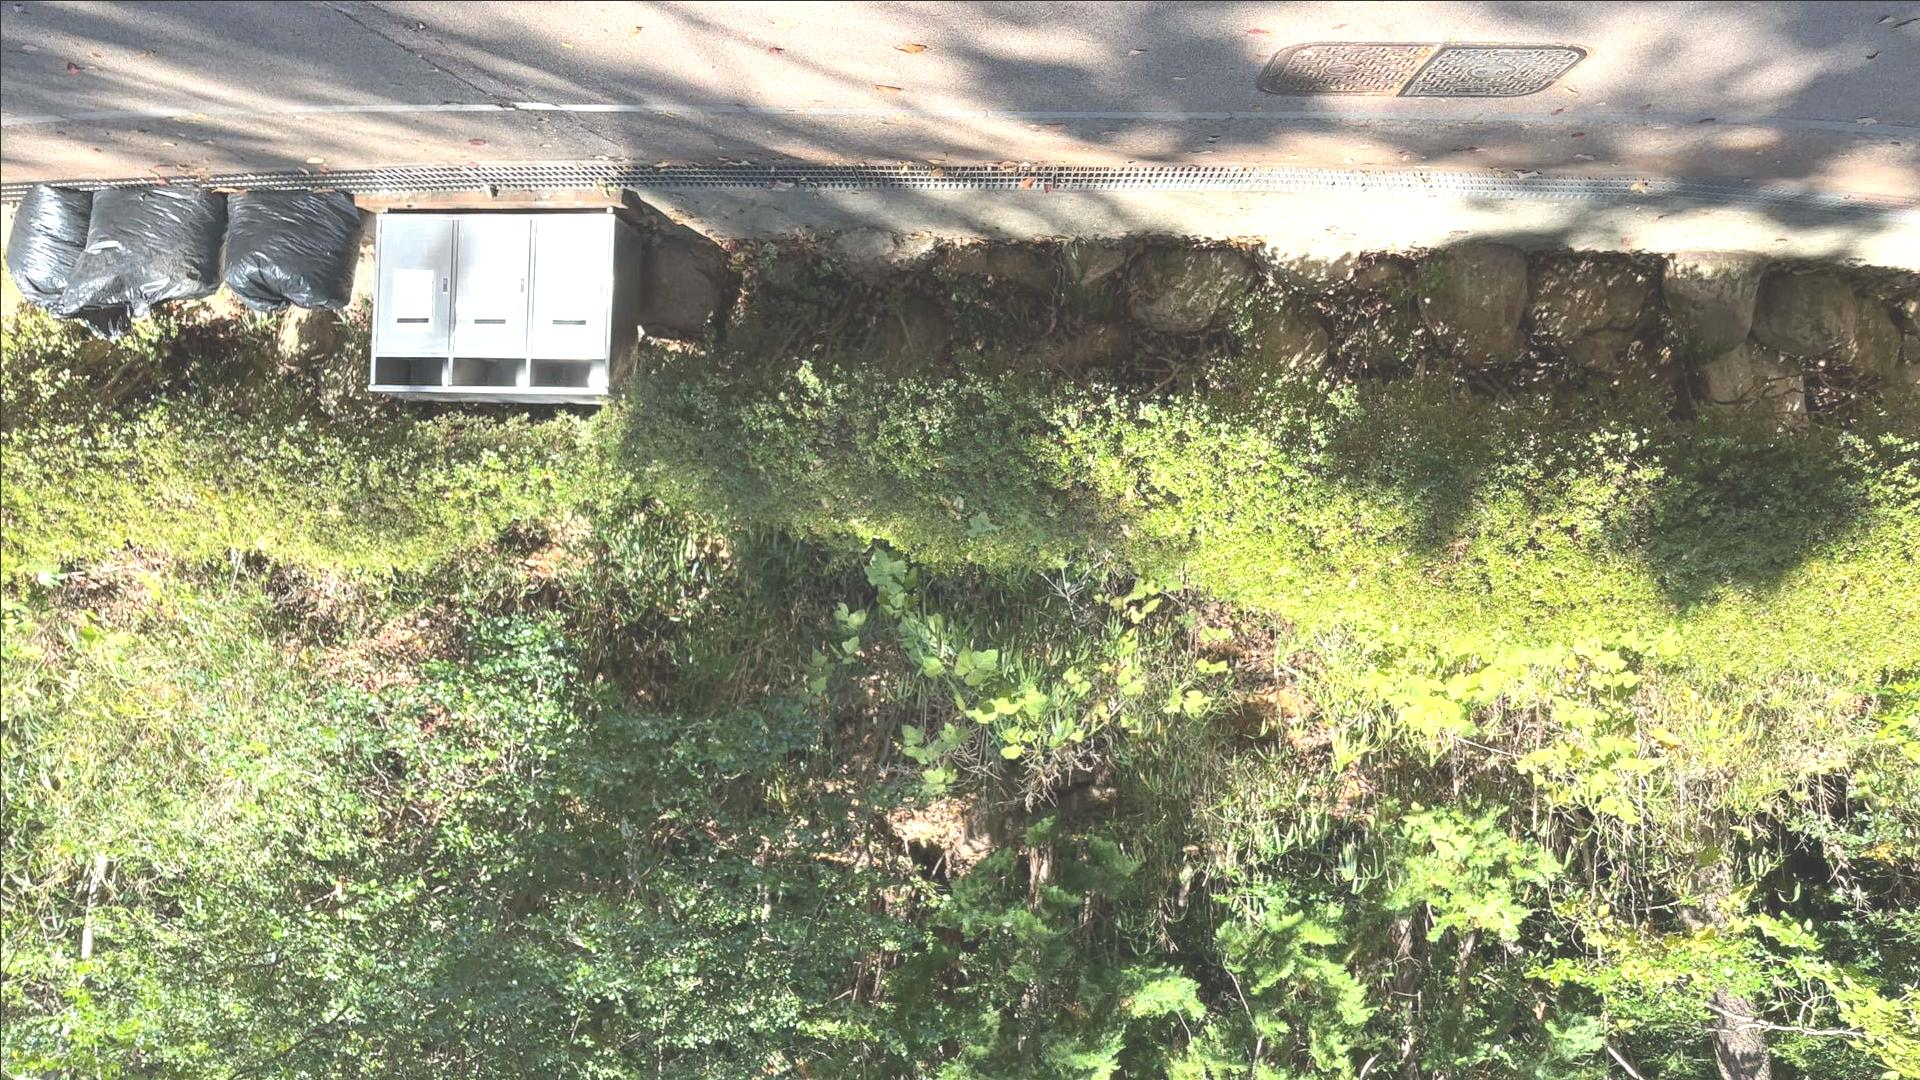black_bag: (57, 173, 225, 344), (222, 181, 371, 330), (4, 179, 86, 323)
